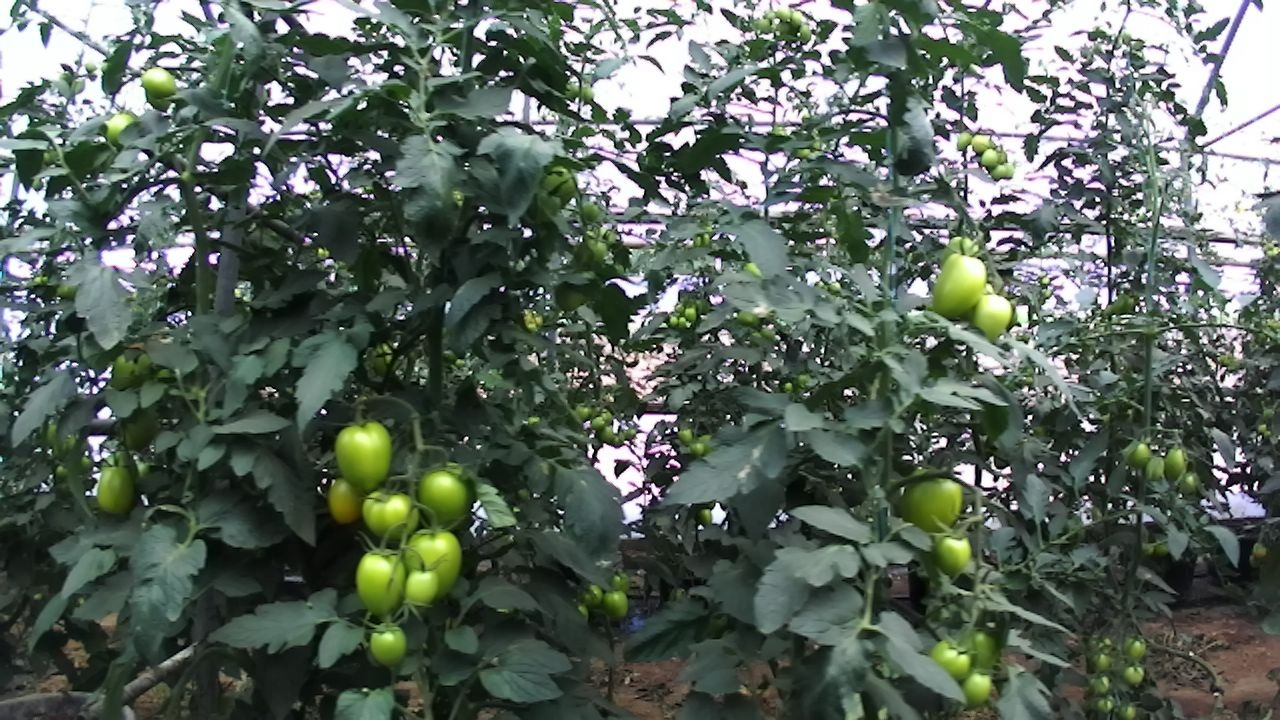tomato: (888, 459, 974, 553), (324, 411, 404, 503), (396, 518, 470, 612), (409, 456, 490, 540), (924, 243, 996, 329), (348, 540, 416, 620), (519, 159, 583, 234), (357, 484, 429, 546), (963, 283, 1021, 349), (923, 523, 983, 585), (89, 458, 145, 521), (925, 629, 982, 688), (319, 471, 375, 529), (547, 262, 601, 319), (362, 616, 418, 670), (397, 561, 445, 617), (132, 61, 188, 109), (952, 661, 1003, 711), (96, 103, 146, 154), (104, 345, 147, 396), (599, 584, 636, 623), (1121, 436, 1157, 473), (1159, 443, 1188, 486), (1119, 633, 1151, 668), (1083, 669, 1115, 701), (576, 580, 609, 611), (1174, 467, 1206, 498), (575, 193, 604, 227), (1119, 661, 1151, 691), (1141, 451, 1170, 484), (693, 501, 720, 535), (1084, 649, 1115, 677), (1091, 691, 1120, 719), (571, 399, 596, 425), (673, 423, 698, 448), (968, 131, 992, 156), (1115, 697, 1141, 720), (686, 434, 708, 460), (953, 127, 975, 153), (979, 145, 1000, 171), (796, 20, 815, 48), (587, 411, 608, 435), (987, 160, 1008, 184), (754, 15, 776, 37), (787, 7, 807, 30), (596, 422, 616, 445), (999, 159, 1018, 183), (774, 2, 793, 23), (682, 304, 698, 323), (666, 312, 681, 331), (675, 313, 690, 331)
